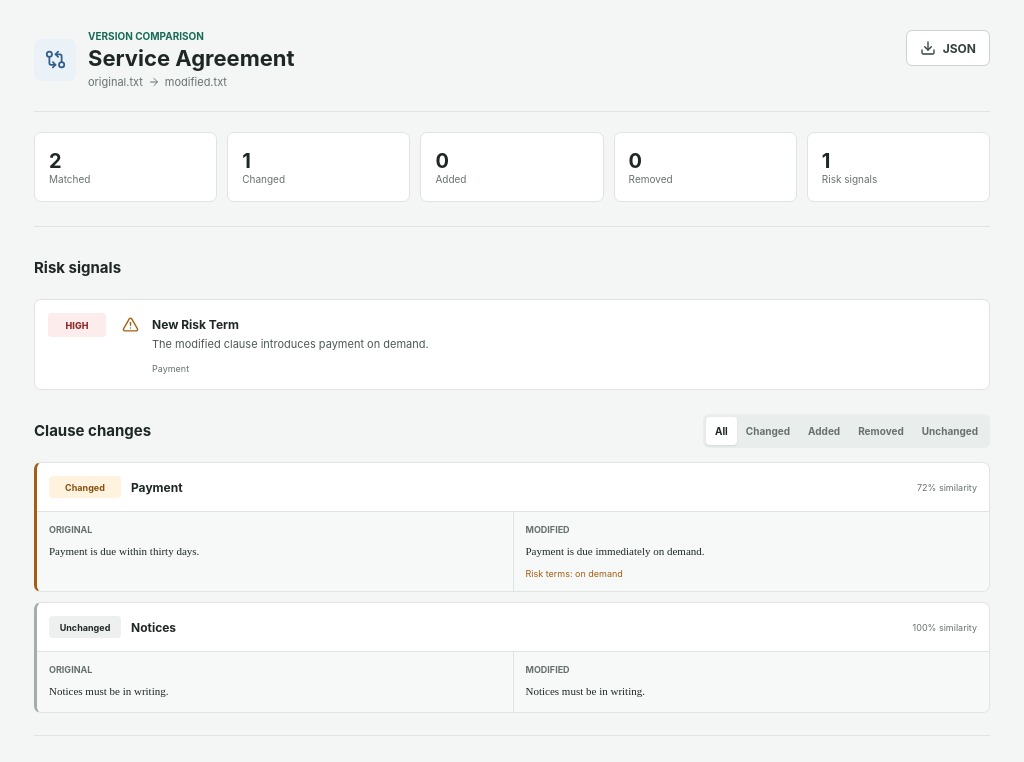
ComparisonReportView › filters clause changes
What coordinates should you click on to do the following:
click the button "Unchanged"
I would click on:
 (950, 431)
Its box is [913,417,987,445].
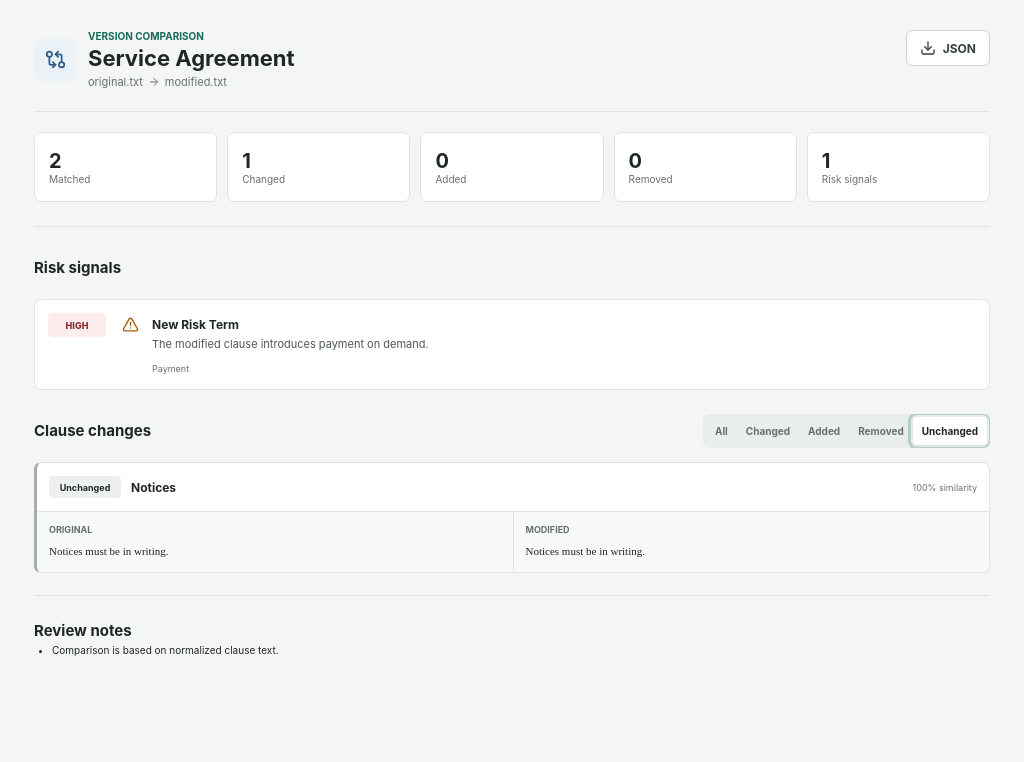
Expected: the text "Notices" is shown, [131,480,176,494]
Result: the text "Payment is due immediately on demand." is gone
